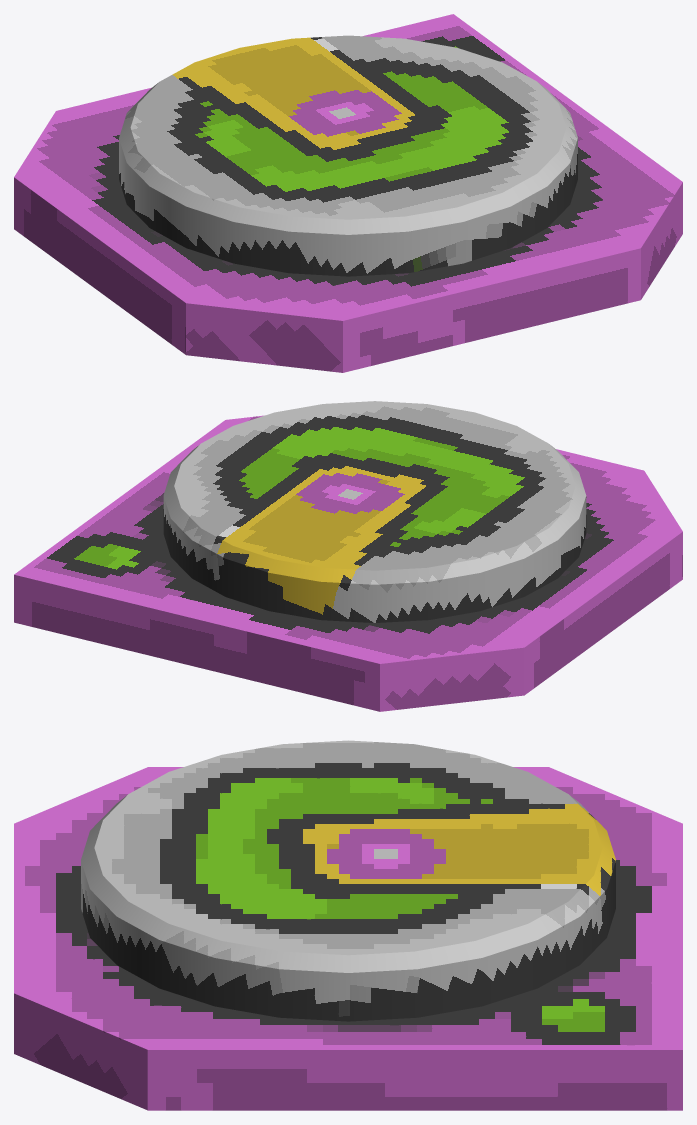
File: Switch.glb
3 renders of one model, top to bottom at view 1: azimuth 30°, elevation 25°; view 2: azimuth 150°, elevation 25°; view 3: azimuth 270°, elevation 25°, orthographic. The views are drawn at different scales.
Visible parts, largest first — view 1: Switch; view 2: Switch; view 3: Switch.
Part boxes in pixels (x1,y1,x2,y2): Switch: (14, 14, 682, 372); Switch: (14, 401, 682, 711); Switch: (14, 740, 682, 1110).
Size of the model in its own units: 1 by 0.2 by 1.
Materials: 1 (1 with a texture image).
